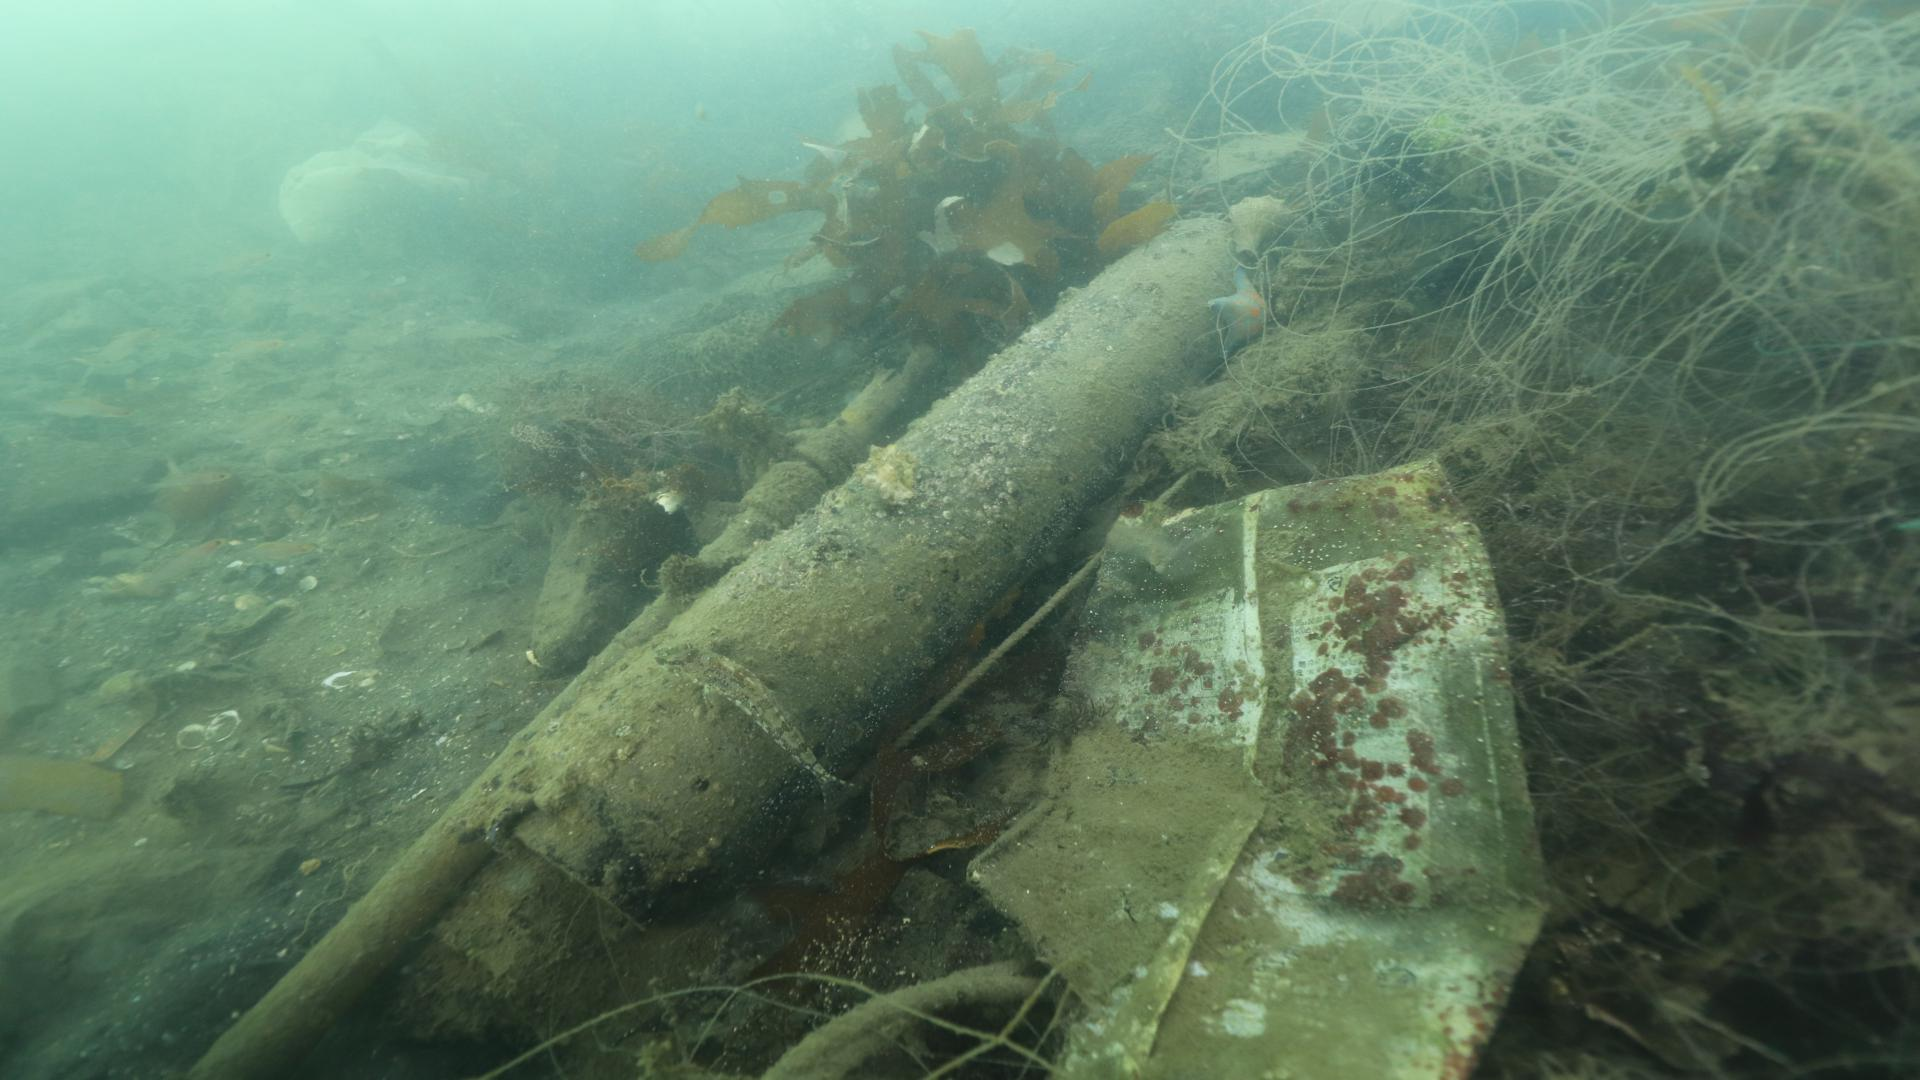eel fish trap: (509, 210, 1237, 939)
